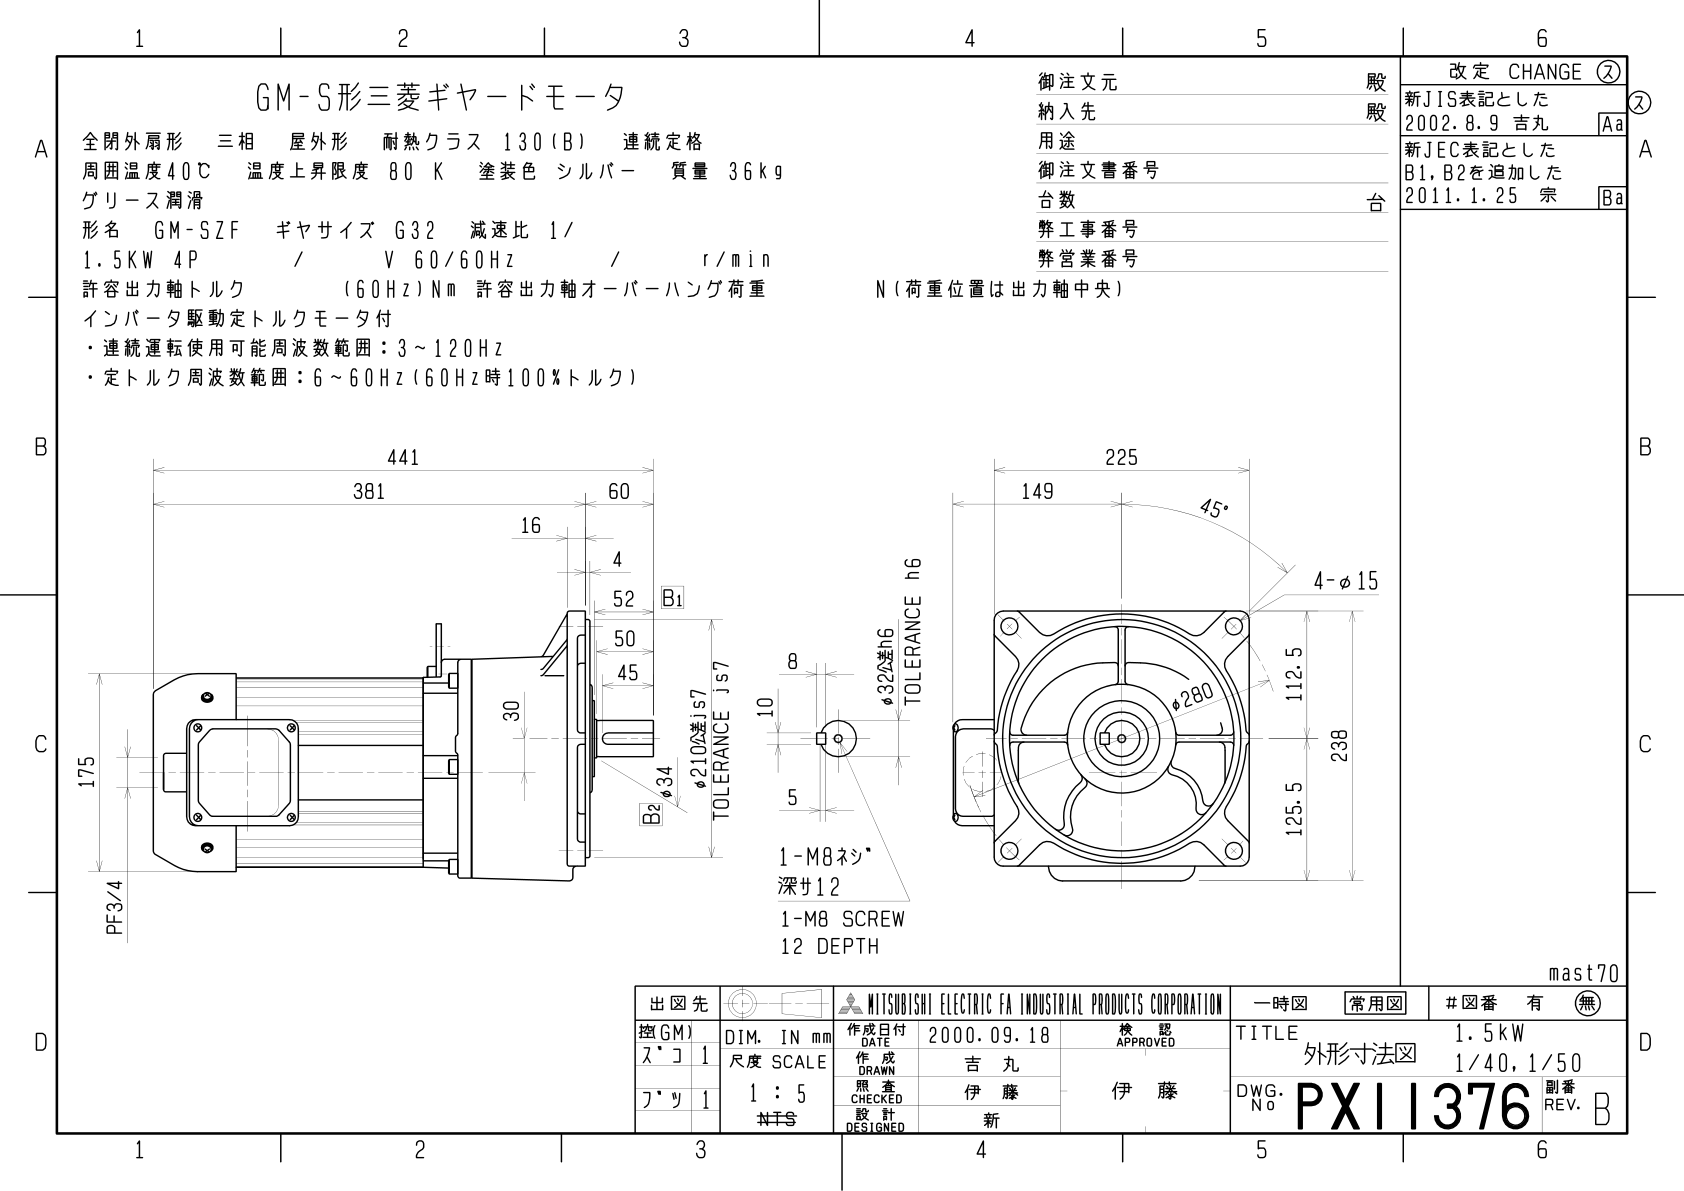GM_S_インバタ屋外＿三相_フランジ: (9, 10, 1684, 1191)
